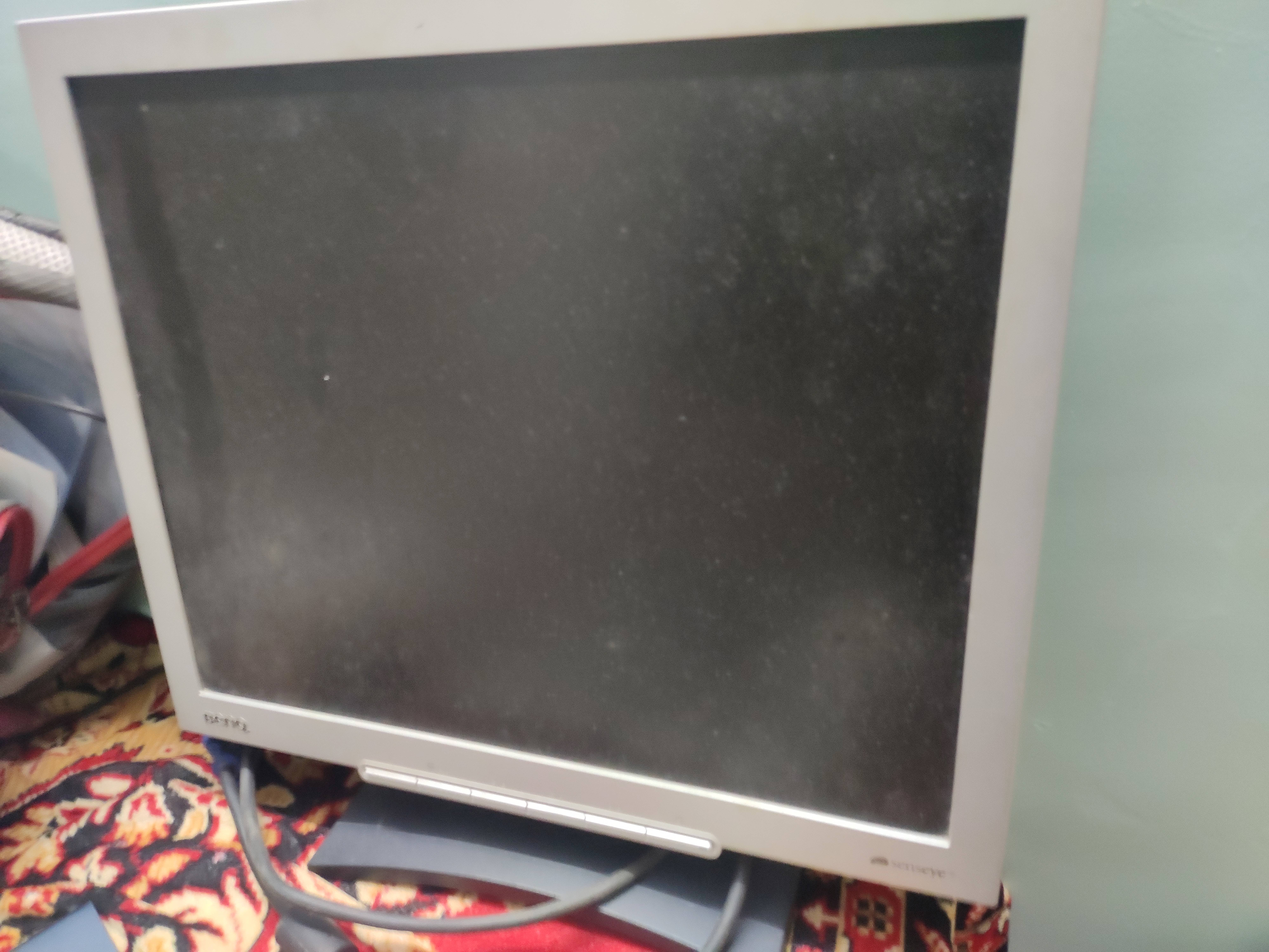Electronics: (3, 6, 1107, 952)
